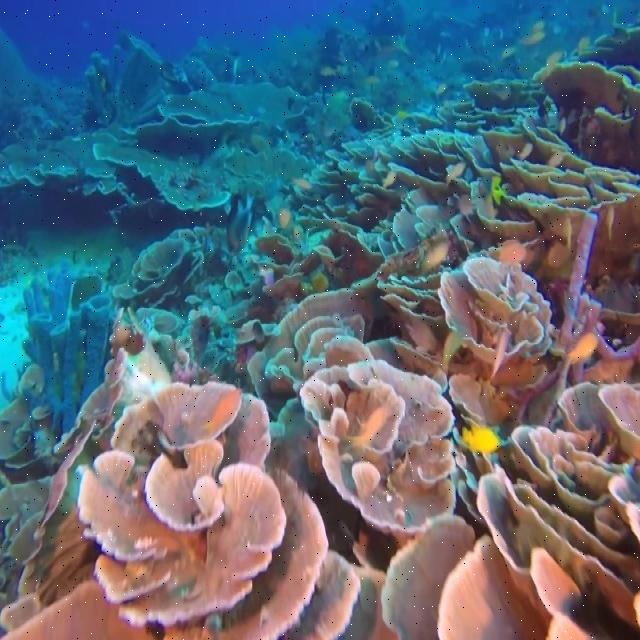fish: (350, 404, 390, 447), (486, 328, 512, 389), (566, 331, 599, 366), (459, 425, 500, 453), (402, 319, 436, 351), (491, 238, 527, 265), (442, 330, 464, 373), (520, 18, 546, 45), (422, 243, 450, 268), (446, 163, 466, 183), (516, 142, 534, 162), (547, 151, 565, 168), (380, 171, 396, 190), (278, 208, 290, 230), (578, 36, 590, 52), (396, 110, 408, 121)
reefs: (0, 1, 639, 639), (311, 273, 329, 291)
